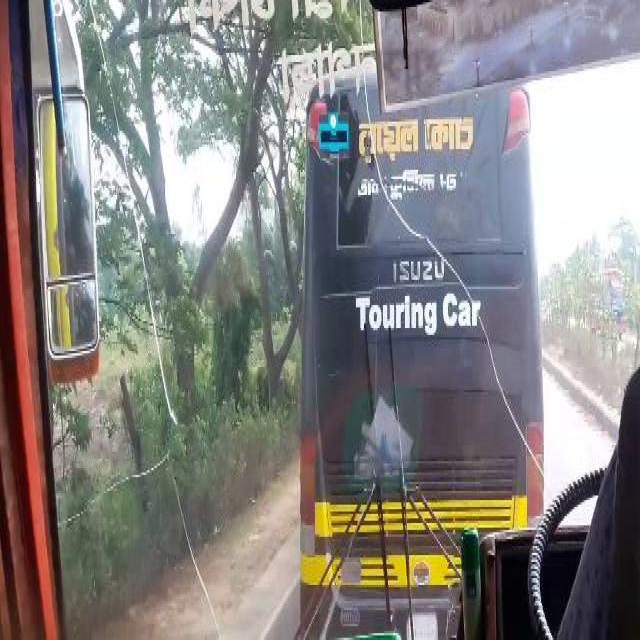Truck: (302, 87, 548, 626), (588, 271, 626, 337)
